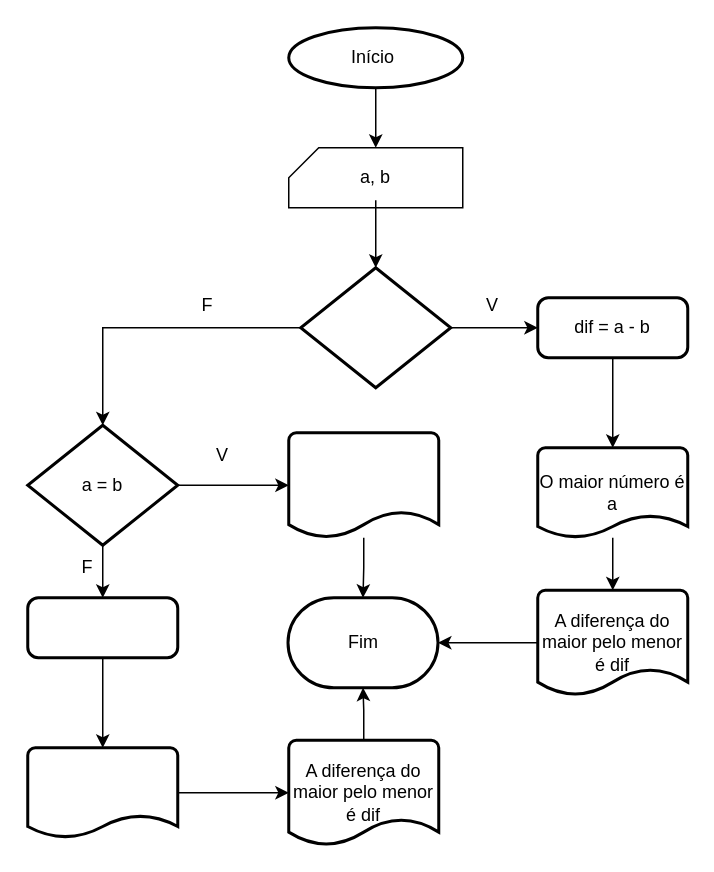
Some shapes in this 714 by 872 pixel diagram are drawn without their labels. The shapes that lost their labels are listed below. From the top down, each one's centre as x and y in pixels, then its label:
At (375,327): "a > b".
At (363,484): "Os números introduzidos sao iguais".
At (102,627): "dif = b - a".
At (102,792): "O maior número é b".
